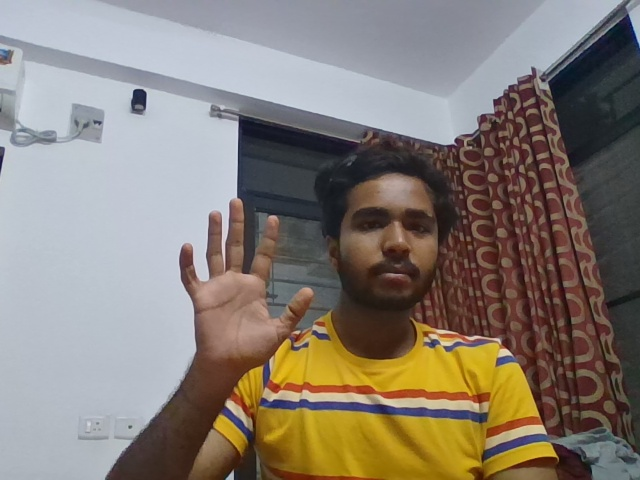Hello: (168, 188, 322, 375)
